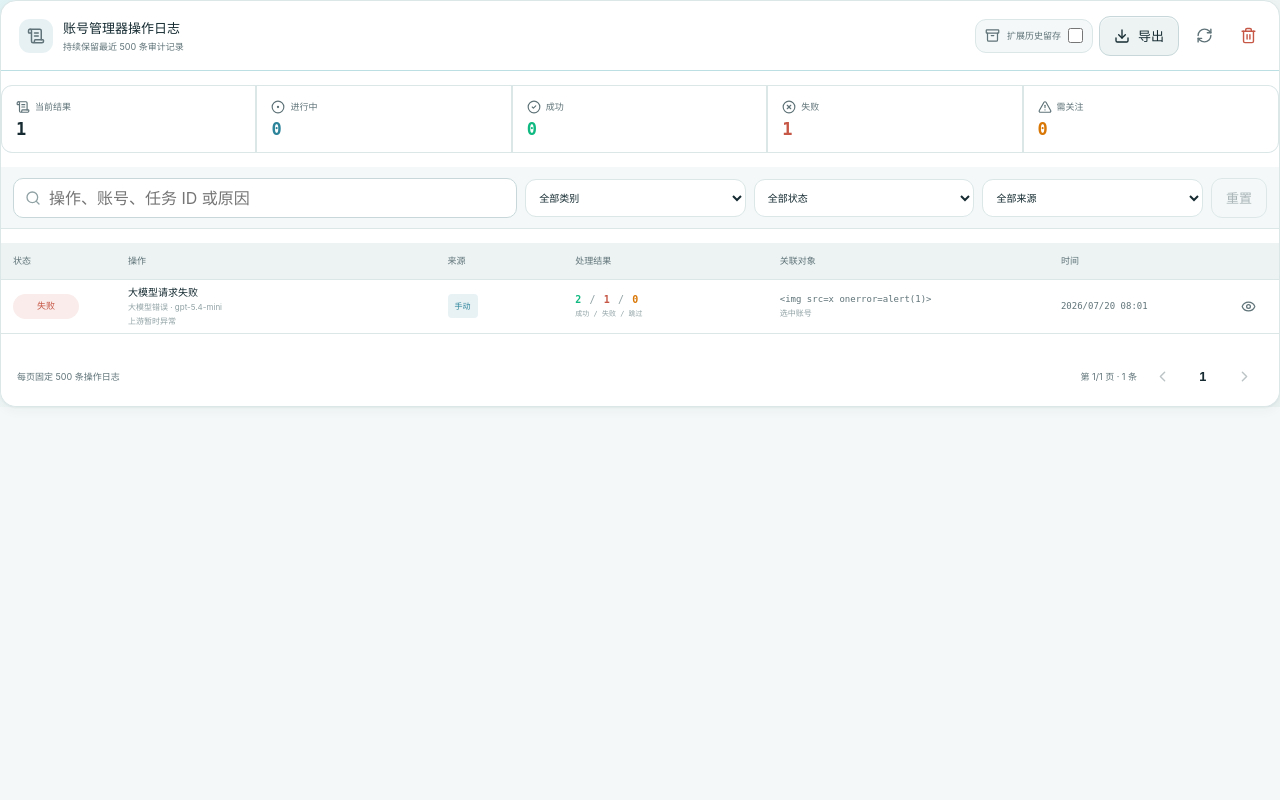
Scenario: OperationLogWorkspace › renders a model error without a message normally
The width and height of the screenshot is (1280, 800).
Check: the text "大模型请求失败" is shown, box [128,286,198,298]
Check: the text "大模型错误 · gpt-5.4-mini" is shown, box [128,302,222,312]
Click the button named "查看操作详情" at (1248, 306), box [1229,287,1267,325]
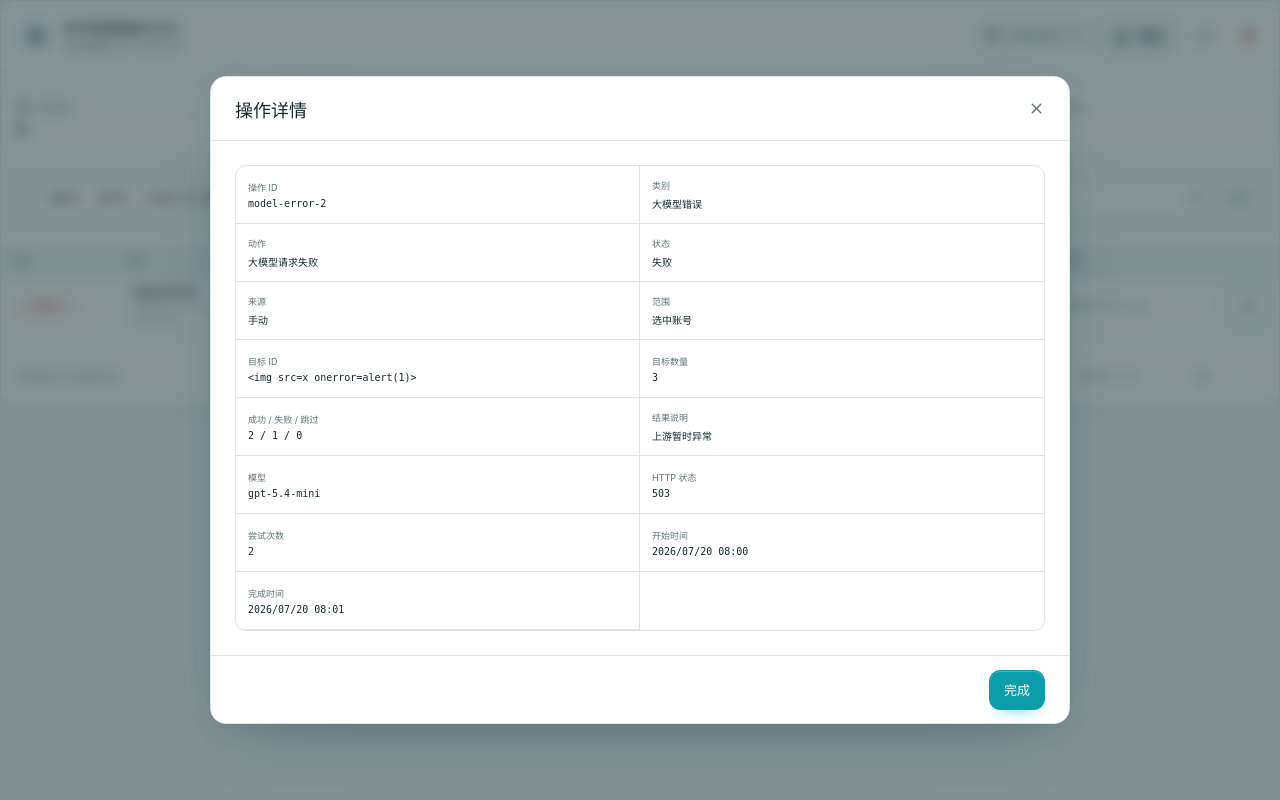
Check: the text "503" is shown, box [652,488,670,498]
Check: the text "2" is shown, box [248,546,254,556]
